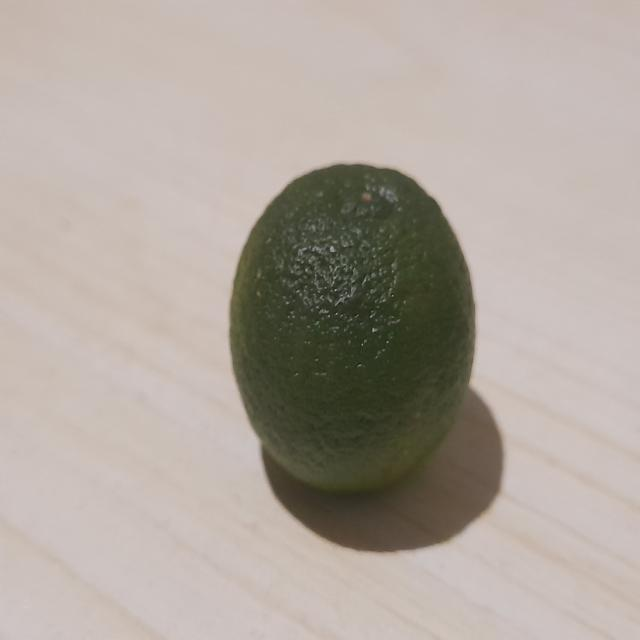heathy: (229, 155, 487, 503)
